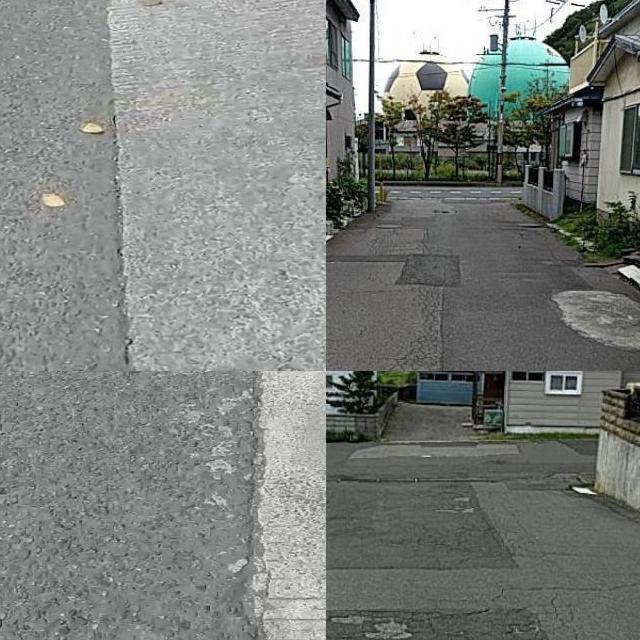Sambungan: (100, 0, 326, 371), (223, 371, 326, 640), (326, 486, 512, 566), (553, 290, 640, 349), (326, 253, 462, 285)
